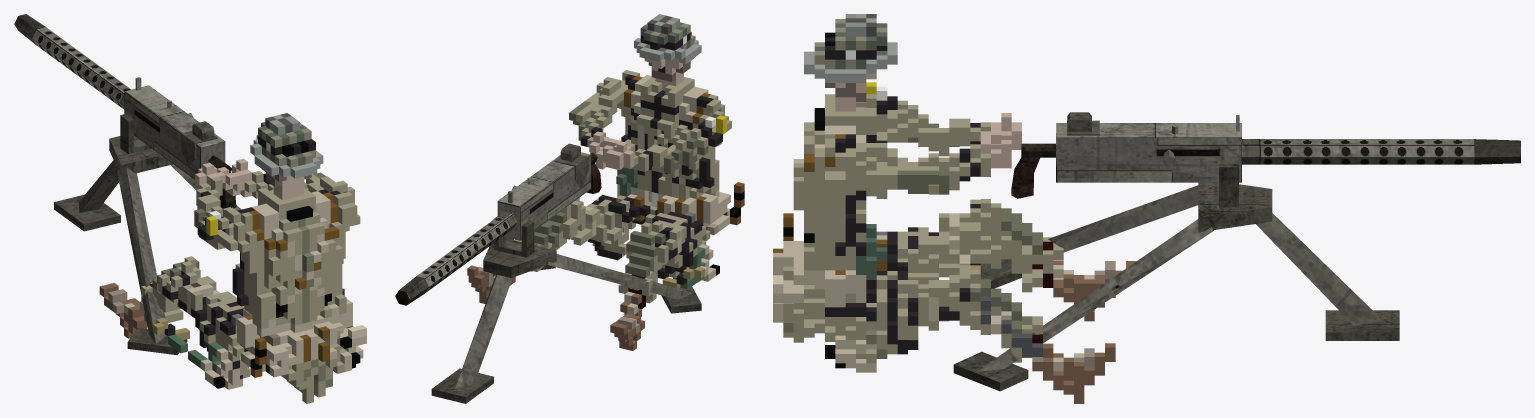
File: m1919_hmg.glb
The picture shows the model from 3 angles, left to right: view 1: azimuth 30°, elevation 25°; view 2: azimuth 150°, elevation 25°; view 3: azimuth 270°, elevation 25°; orthographic projection. The views are drawn at different scales.
Visible parts, largest first — view 1: crew_soldier_SLOT_00_GUNNER, weapon_turret_0_m1919_hmg.mesh, 00_chassis_m1919_hmg_tripod.mesh; view 2: crew_soldier_SLOT_00_GUNNER, weapon_turret_0_m1919_hmg.mesh, 00_chassis_m1919_hmg_tripod.mesh; view 3: crew_soldier_SLOT_00_GUNNER, weapon_turret_0_m1919_hmg.mesh, 00_chassis_m1919_hmg_tripod.mesh.
Boxes of the visible parts, x1=… form: crew_soldier_SLOT_00_GUNNER: x1=99, y1=113, x2=366, y2=403; weapon_turret_0_m1919_hmg.mesh: x1=14, y1=14, x2=236, y2=208; 00_chassis_m1919_hmg_tripod.mesh: x1=54, y1=135, x2=344, y2=355; crew_soldier_SLOT_00_GUNNER: x1=467, y1=14, x2=744, y2=350; weapon_turret_0_m1919_hmg.mesh: x1=395, y1=143, x2=601, y2=305; 00_chassis_m1919_hmg_tripod.mesh: x1=431, y1=238, x2=701, y2=403; crew_soldier_SLOT_00_GUNNER: x1=773, y1=14, x2=1136, y2=403; weapon_turret_0_m1919_hmg.mesh: x1=1011, y1=112, x2=1520, y2=207; 00_chassis_m1919_hmg_tripod.mesh: x1=953, y1=182, x2=1399, y2=391.
Size of the model in its own units: 0.9182 by 1.09 by 2.25.
Materials: 37 (1 with a texture image).
